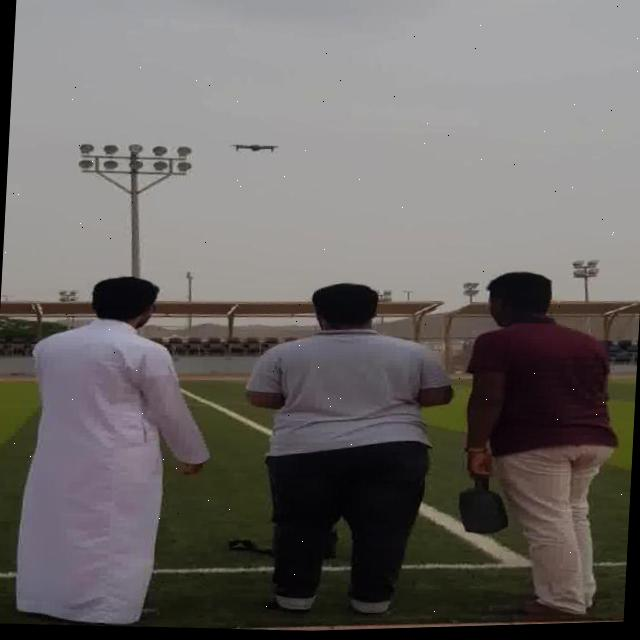drone: (219, 133, 290, 160)
